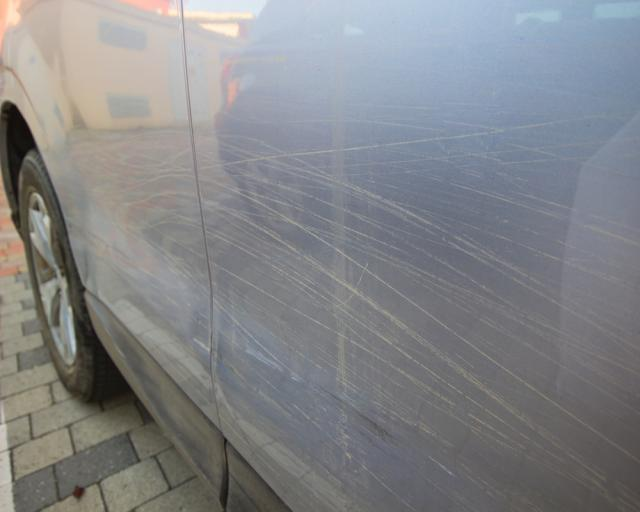scratch: (190, 97, 640, 512), (56, 125, 212, 350)
